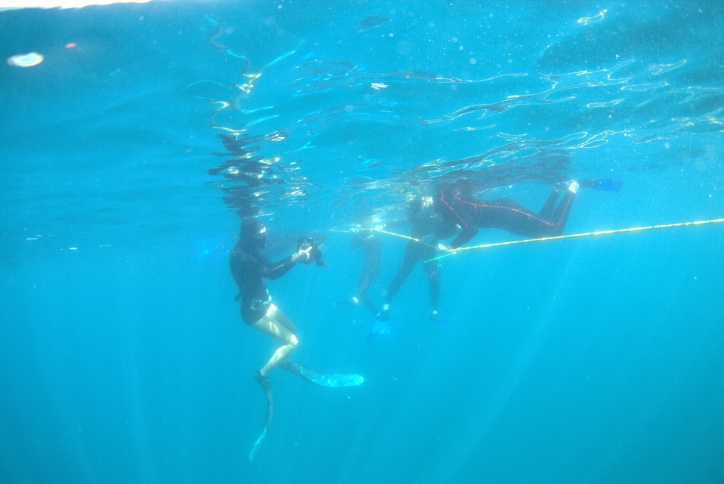Mako: (215, 231, 339, 255)
